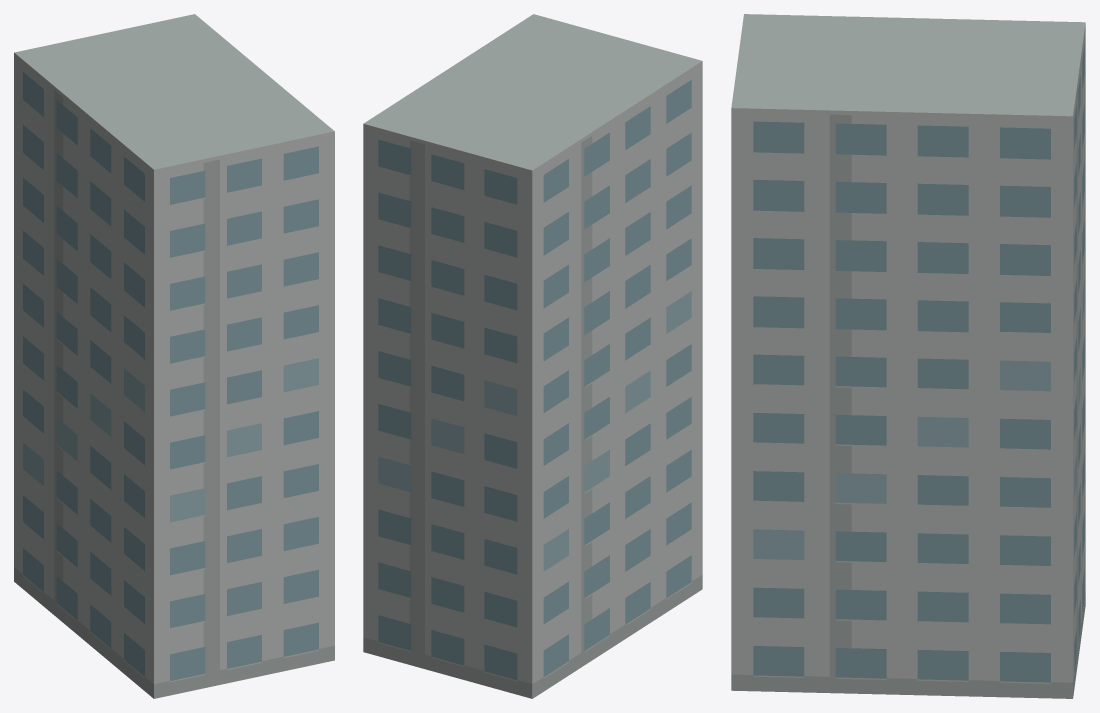
File: residential-c6ec25c3-441b-48e8-aa85-bab628ebfef6.glb
The picture shows the model from 3 angles, left to right: view 1: azimuth 30°, elevation 25°; view 2: azimuth 150°, elevation 25°; view 3: azimuth 270°, elevation 25°; orthographic projection. The views are drawn at different scales.
Parts seen in each view (by area): view 1: residential-c6ec25c3-441b-48e8-aa85-bab628ebfef6.tmp; view 2: residential-c6ec25c3-441b-48e8-aa85-bab628ebfef6.tmp; view 3: residential-c6ec25c3-441b-48e8-aa85-bab628ebfef6.tmp.
Boxes of the visible parts, x1=… form: residential-c6ec25c3-441b-48e8-aa85-bab628ebfef6.tmp: x1=14, y1=14, x2=334, y2=698; residential-c6ec25c3-441b-48e8-aa85-bab628ebfef6.tmp: x1=363, y1=14, x2=702, y2=698; residential-c6ec25c3-441b-48e8-aa85-bab628ebfef6.tmp: x1=731, y1=14, x2=1085, y2=698.
Bounding box in the file's own units: 13.19 × 35 × 19.3.
